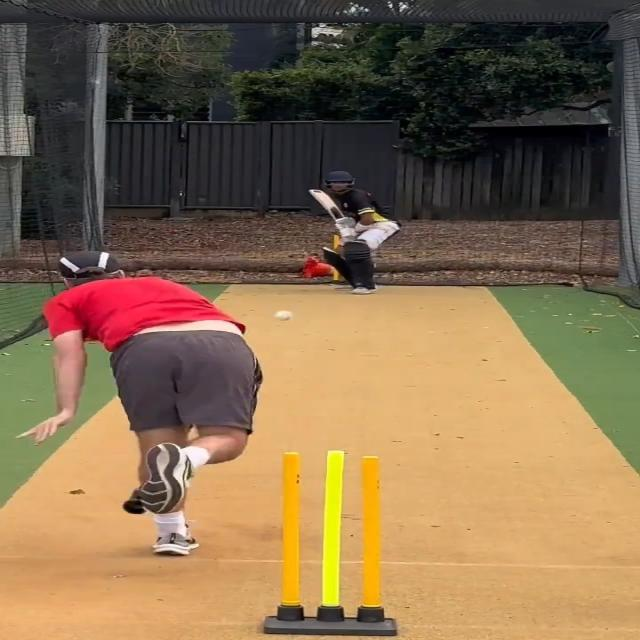ball: (274, 308, 294, 322)
stump: (263, 448, 398, 638)
